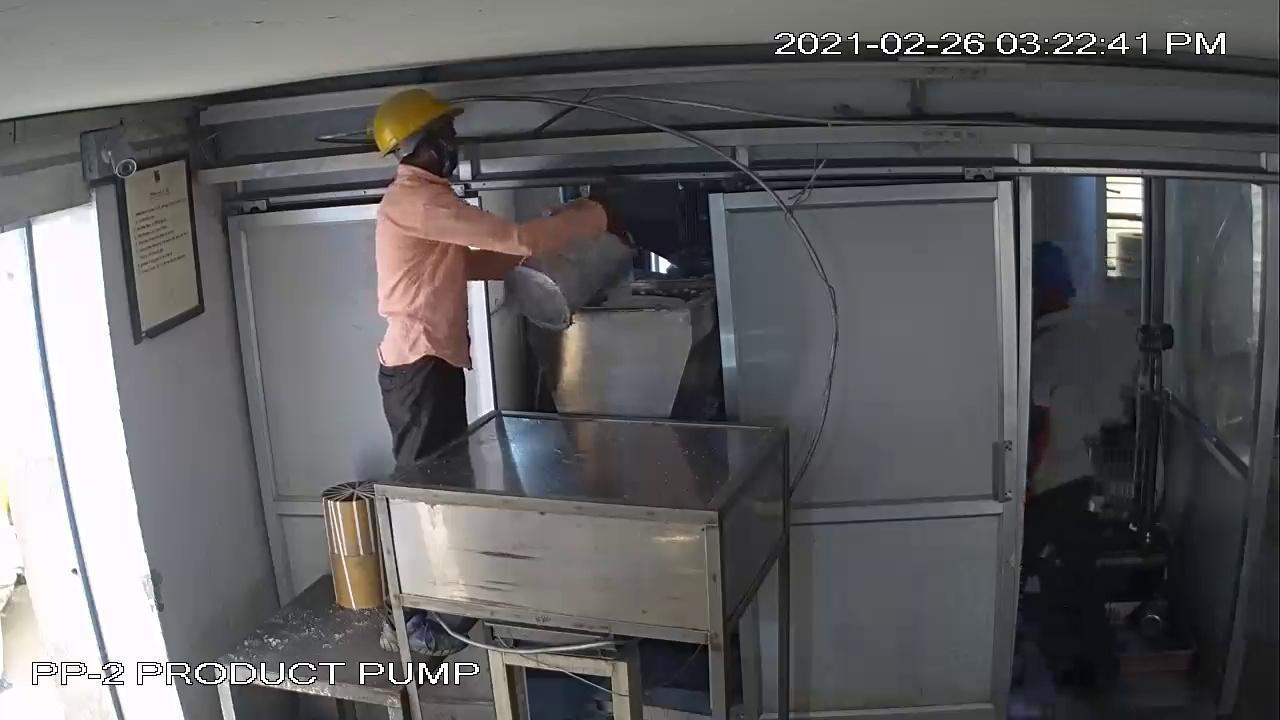helmet: (360, 87, 469, 153)
